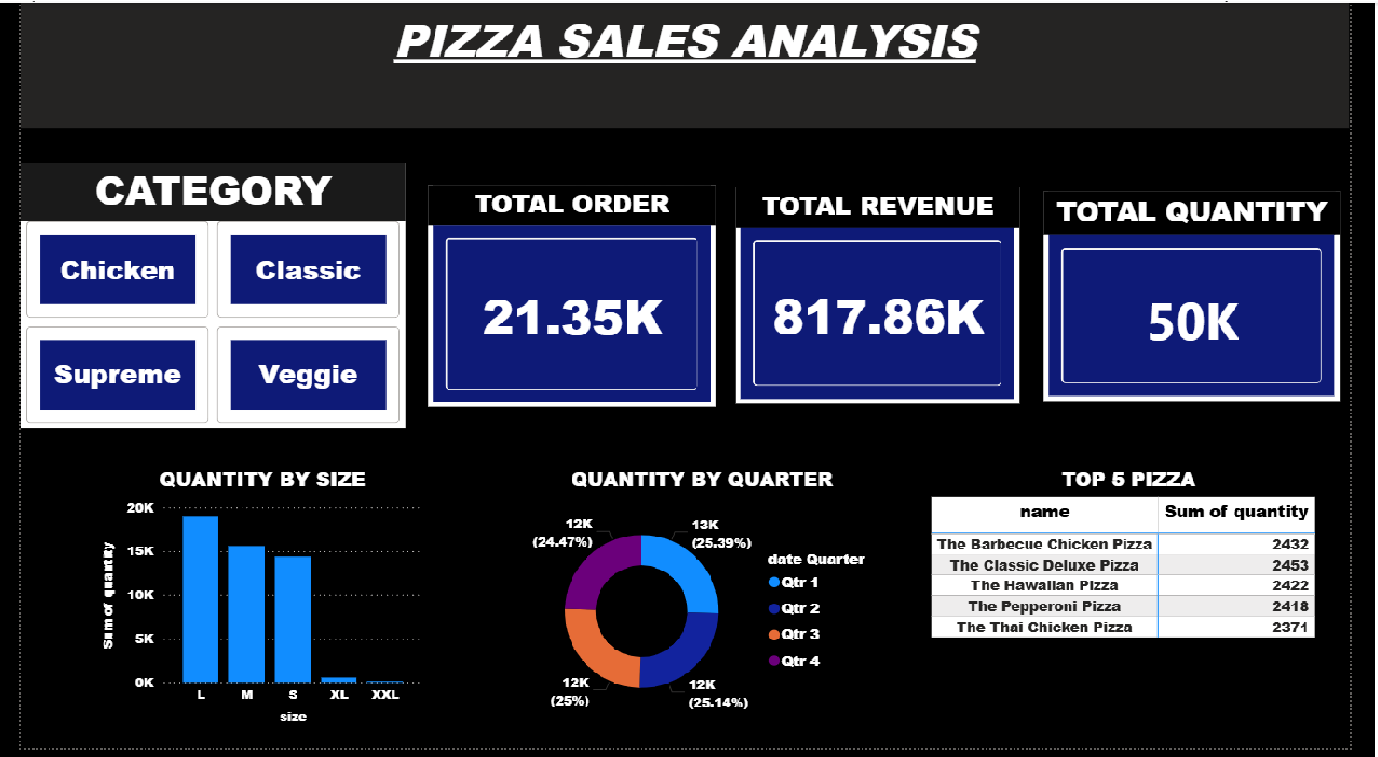

The page's visual inventory and layout, read from the dashboard file:
{"tool":"powerbi","page":{"name":"Page 1","canvas":[1280,720],"ordinal":0},"visuals":[{"type":"advancedSlicerVisual","title":"CATEGORY","fields":{"Values":["pizza_types.category"]},"box":[0,154.4,370.4,257],"z":0},{"type":"cardVisual","title":"TOTAL ORDER","fields":{"Data":["CountNonNull(orders1.order_id)"]},"box":[392.1,176.1,277.5,214.7],"z":1000},{"type":"cardVisual","title":"TOTAL QUANTITY","fields":{"Data":["Sum(order_details.quantity)"]},"box":[985.7,182.2,285.9,202.7],"z":2000},{"type":"columnChart","title":"QUANTITY BY SIZE","fields":{"Y":["Sum(order_details.quantity)"],"Category":["pizzas.size"]},"box":[73.6,446.4,318.5,257],"z":3000},{"type":"textbox","box":[0,0,1280,120.6],"z":4000},{"type":"cardVisual","title":"TOTAL REVENUE","fields":{"Data":["order_details.t_rev"]},"box":[688.9,178.6,273.9,208.7],"z":5000},{"type":"donutChart","title":"QUANTITY BY QUARTER","fields":{"Category":["orders1.date.Variation.Date Hierarchy.Quarter"],"Y":["Sum(order_details.quantity)"]},"box":[471.7,446.4,369.2,257],"z":6000},{"type":"pivotTable","title":"TOP 5 PIZZA","fields":{"Rows":["pizza_types.name"],"Values":["Sum(order_details.quantity)"]},"box":[872.3,446.4,390.9,200.3],"z":7000}]}

Visuals, with their boxes in screenshot pixels (x1, y1, x2, y2), scaled from the page's 1280x720 canvas onto the 1378x757 screenshot:
"CATEGORY" advancedSlicerVisual: rect(0, 162, 399, 433)
"TOTAL ORDER" cardVisual: rect(422, 185, 721, 411)
"TOTAL QUANTITY" cardVisual: rect(1061, 192, 1369, 405)
"QUANTITY BY SIZE" columnChart: rect(79, 469, 422, 740)
textbox: rect(0, 0, 1377, 127)
"TOTAL REVENUE" cardVisual: rect(742, 188, 1037, 407)
"QUANTITY BY QUARTER" donutChart: rect(508, 469, 905, 740)
"TOP 5 PIZZA" pivotTable: rect(939, 469, 1360, 680)
